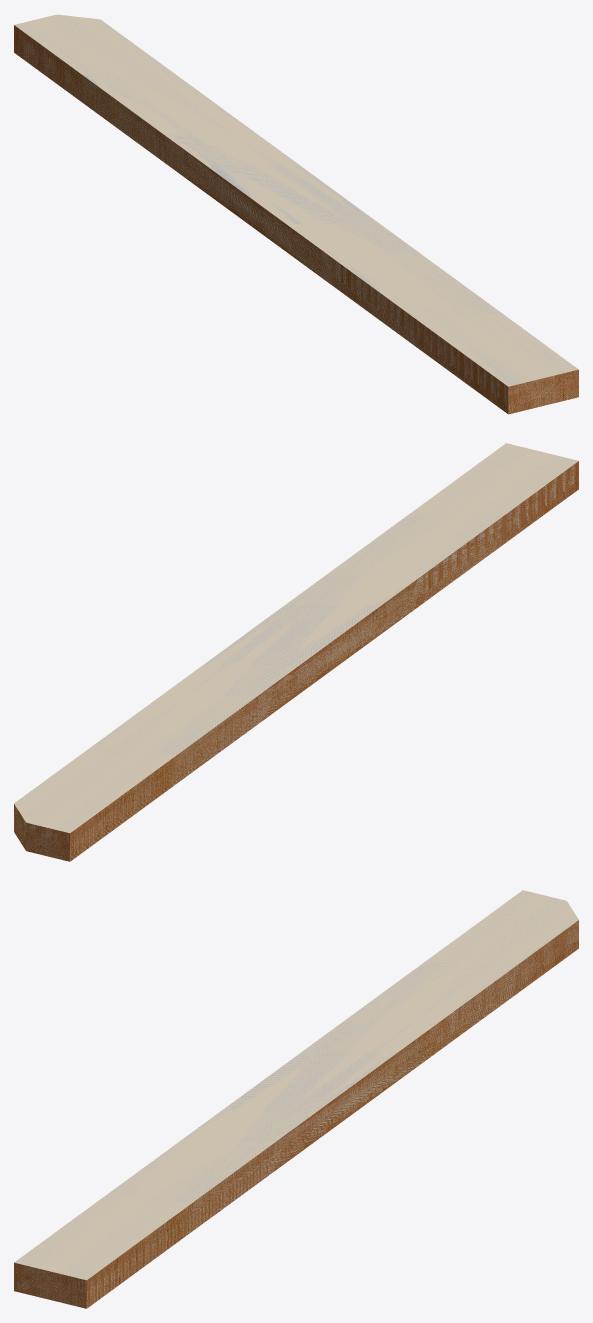
Rendered from original-13.obj.
3 views of the same model, one above another, from view 1: azimuth 30°, elevation 25°; view 2: azimuth 150°, elevation 25°; view 3: azimuth 330°, elevation 25° (orthographic). The views are drawn at different scales.
Visible parts, largest first — view 1: drawer_guides4/drawer_guides12/mesh3/mesh3-geometry#mesh3-geomet; view 2: drawer_guides4/drawer_guides12/mesh3/mesh3-geometry#mesh3-geomet; view 3: drawer_guides4/drawer_guides12/mesh3/mesh3-geometry#mesh3-geomet.
Part boxes in pixels (box(x1,y1,x2,y2)): drawer_guides4/drawer_guides12/mesh3/mesh3-geometry#mesh3-geomet: box(14, 14, 578, 414); drawer_guides4/drawer_guides12/mesh3/mesh3-geometry#mesh3-geomet: box(14, 443, 578, 861); drawer_guides4/drawer_guides12/mesh3/mesh3-geometry#mesh3-geomet: box(14, 890, 578, 1308).
Size of the model in its own units: 0.0305 by 0.0114 by 0.3692.
